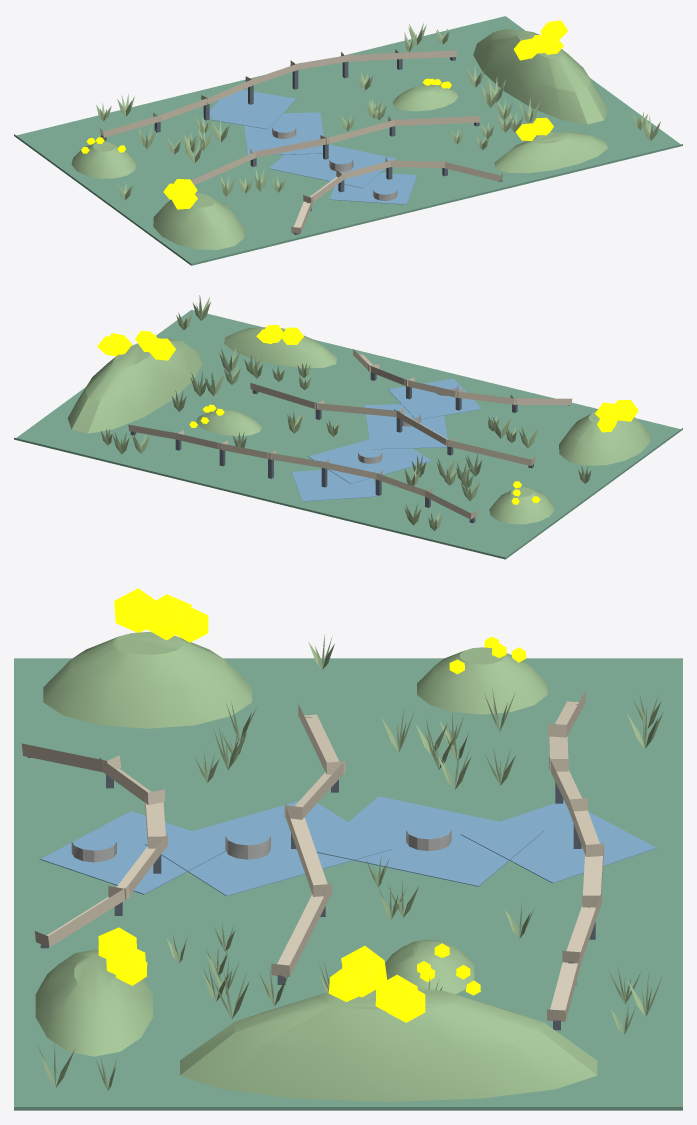
The picture shows the model from 3 angles, top to bottom: view 1: azimuth 30°, elevation 25°; view 2: azimuth 150°, elevation 25°; view 3: azimuth 270°, elevation 25°; orthographic projection. The views are drawn at different scales.
Visible parts, largest first — view 1: Safety_Pad, Terrain, River_Ribbon, Balance_Beam, Grass_Tufts, Foliage, Balance_Beam_Posts, River_Stones; view 2: Safety_Pad, Terrain, River_Ribbon, Balance_Beam, Grass_Tufts, Foliage, Balance_Beam_Posts; view 3: Safety_Pad, Terrain, River_Ribbon, Balance_Beam, Foliage, Grass_Tufts, River_Stones, Balance_Beam_Posts.
Boxes of the visible parts, x1=… form: Safety_Pad: x1=14, y1=16, x2=682, y2=265; Terrain: x1=71, y1=29, x2=607, y2=249; River_Ribbon: x1=209, y1=90, x2=417, y2=204; Balance_Beam: x1=99, y1=49, x2=503, y2=233; Grass_Tufts: x1=96, y1=23, x2=660, y2=199; Foliage: x1=81, y1=20, x2=568, y2=209; Balance_Beam_Posts: x1=101, y1=57, x2=502, y2=234; River_Stones: x1=272, y1=128, x2=397, y2=200; Safety_Pad: x1=14, y1=310, x2=682, y2=559; Terrain: x1=67, y1=327, x2=649, y2=524; River_Ribbon: x1=292, y1=378, x2=481, y2=501; Balance_Beam: x1=128, y1=349, x2=572, y2=519; Grass_Tufts: x1=101, y1=295, x2=591, y2=531; Foliage: x1=97, y1=325, x2=638, y2=504; Balance_Beam_Posts: x1=130, y1=355, x2=569, y2=523; Safety_Pad: x1=14, y1=658, x2=682, y2=1110; Terrain: x1=35, y1=632, x2=597, y2=1101; River_Ribbon: x1=39, y1=796, x2=656, y2=896; Balance_Beam: x1=21, y1=690, x2=604, y2=1021; Foliage: x1=98, y1=588, x2=526, y2=1022; Grass_Tufts: x1=37, y1=635, x2=663, y2=1090; River_Stones: x1=71, y1=830, x2=451, y2=862; Balance_Beam_Posts: x1=27, y1=704, x2=595, y2=1030.
Size of what is drawn, in the model's own units: 8 by 0.8783 by 5.
Materials: 8 (1 with a texture image).
